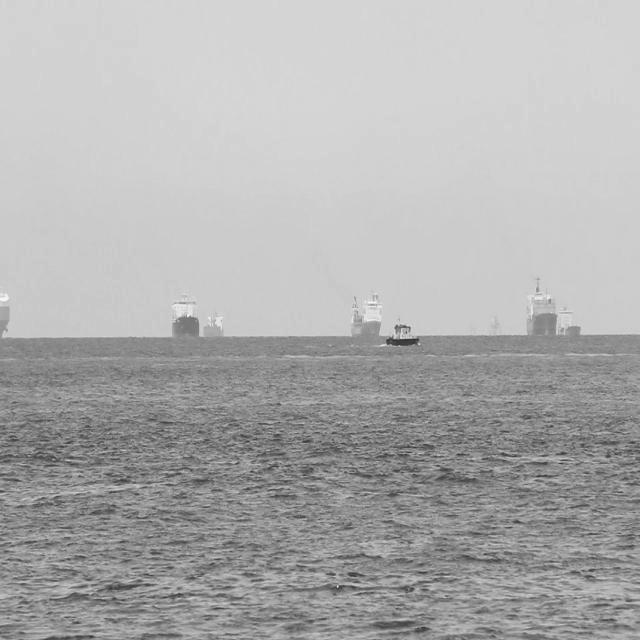ship: (523, 272, 558, 338), (345, 286, 383, 343), (169, 283, 199, 343), (388, 318, 422, 351), (558, 300, 583, 342), (204, 308, 228, 346), (488, 311, 506, 338)
